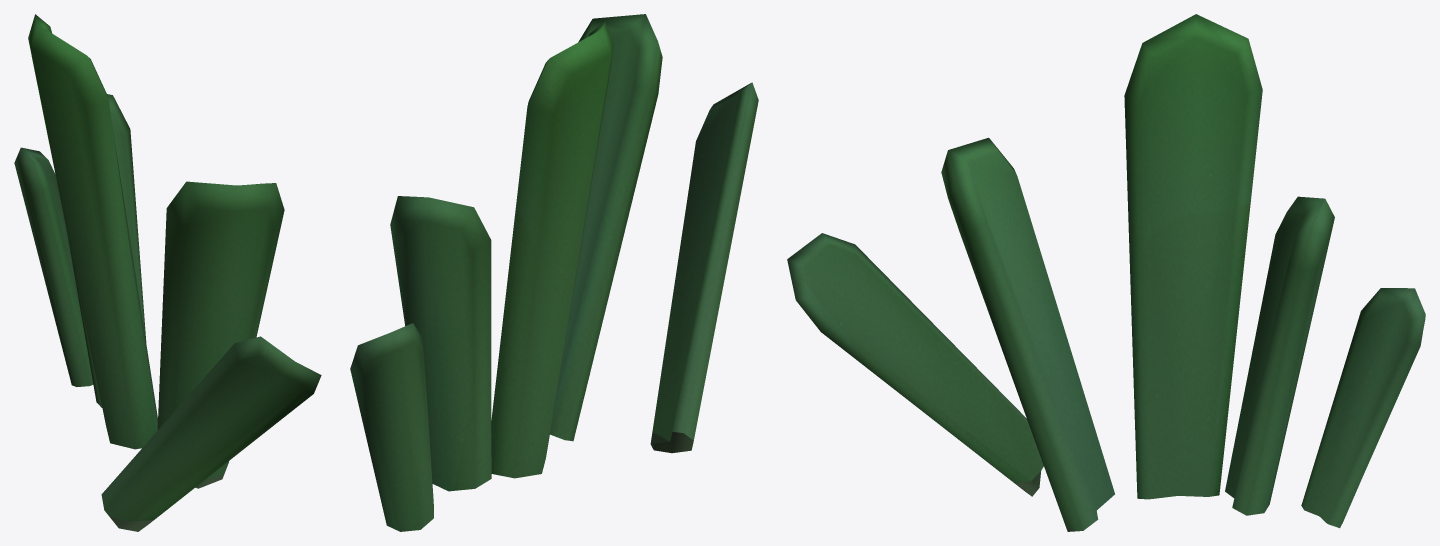
Rendered from grass_sm.fbx.
The picture shows the model from 3 angles, left to right: view 1: azimuth 30°, elevation 25°; view 2: azimuth 150°, elevation 25°; view 3: azimuth 270°, elevation 25°; orthographic projection. The views are drawn at different scales.
Visible parts, largest first — view 1: Plane.004; view 2: Plane.004; view 3: Plane.004.
Boxes of the visible parts, x1,y1,x2,y2 form: Plane.004: (14, 14, 321, 531); Plane.004: (350, 14, 758, 531); Plane.004: (787, 14, 1425, 531).
Bounding box in the file's own units: 7.48 × 21.27 × 26.27.
